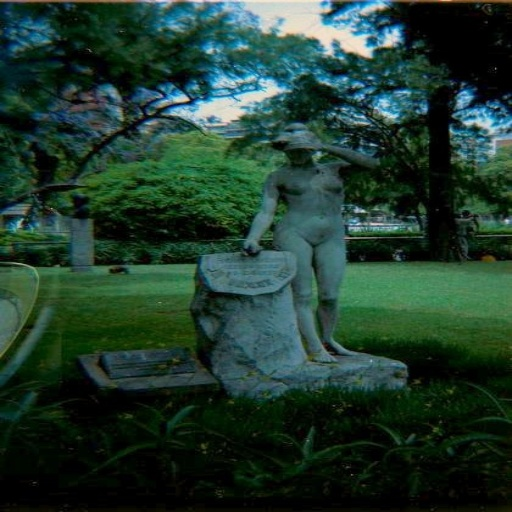hand: (242, 237, 265, 251)
